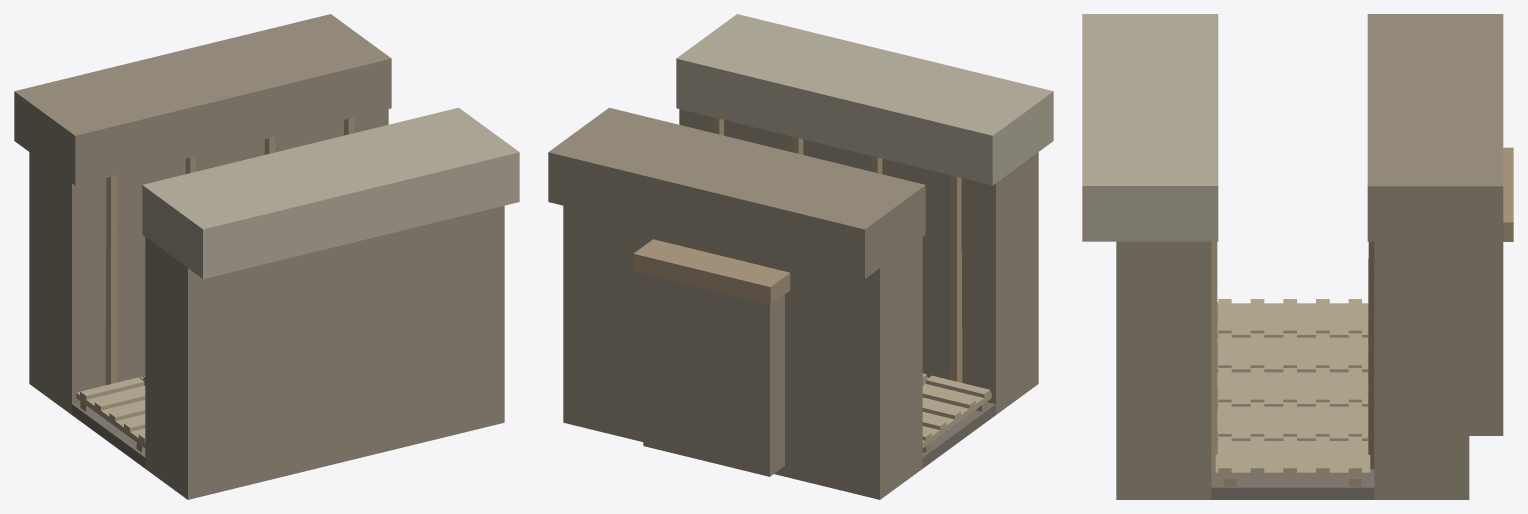
Rendered from trench-line-1917-funk-hole-bay-2f0c0061__24065.glb.
The picture shows the model from 3 angles, left to right: view 1: azimuth 30°, elevation 25°; view 2: azimuth 150°, elevation 25°; view 3: azimuth 270°, elevation 25°; orthographic projection. The views are drawn at different scales.
Parts seen in each view (by area): view 1: funk-hole-bay; view 2: funk-hole-bay; view 3: funk-hole-bay.
Part boxes in pixels (bbox=[...]): funk-hole-bay: bbox=[14, 14, 519, 499]; funk-hole-bay: bbox=[548, 14, 1053, 499]; funk-hole-bay: bbox=[1082, 14, 1513, 499].
Bounding box in the file's own units: 3 × 2.55 × 3.18.
